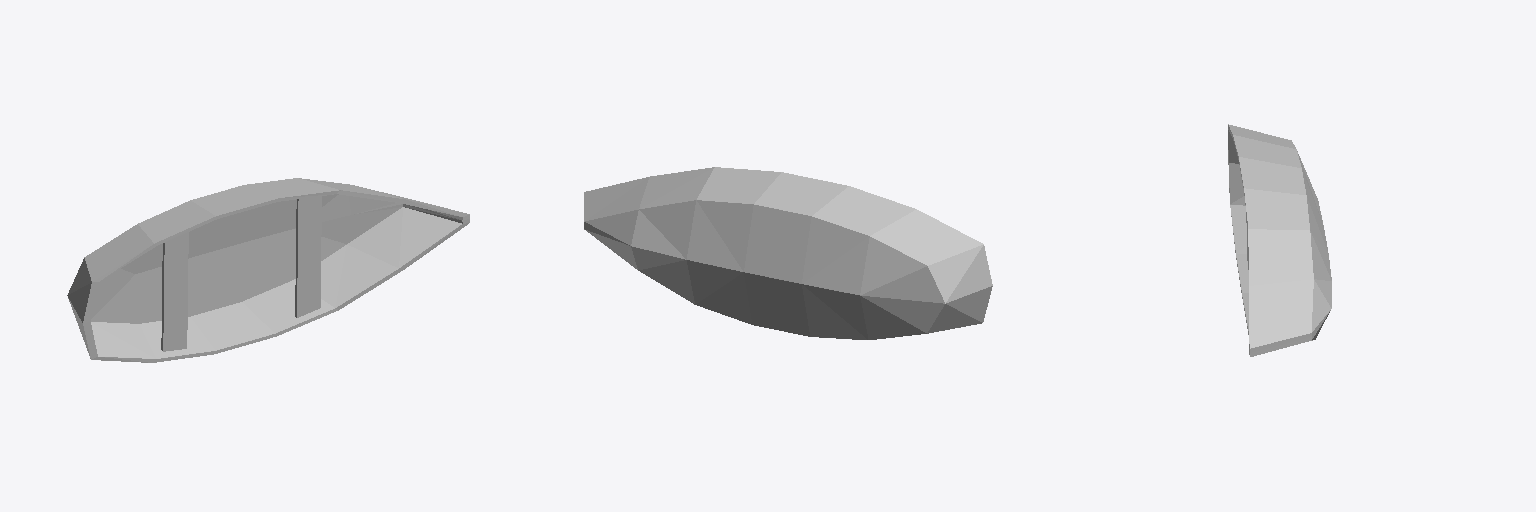
Rendered from boat.obj.
3 renders of one model, left to right at view 1: azimuth 30°, elevation 25°; view 2: azimuth 150°, elevation 25°; view 3: azimuth 270°, elevation 25°, orthographic.
Parts seen in each view (by area): view 1: Cube.002; view 2: Cube.002; view 3: Cube.002.
Part boxes in pixels (bbox=[...]): Cube.002: bbox=[67, 178, 469, 362]; Cube.002: bbox=[584, 167, 992, 339]; Cube.002: bbox=[1228, 124, 1331, 356].
Bounding box in the file's own units: 2.01 × 0.674 × 0.4557.